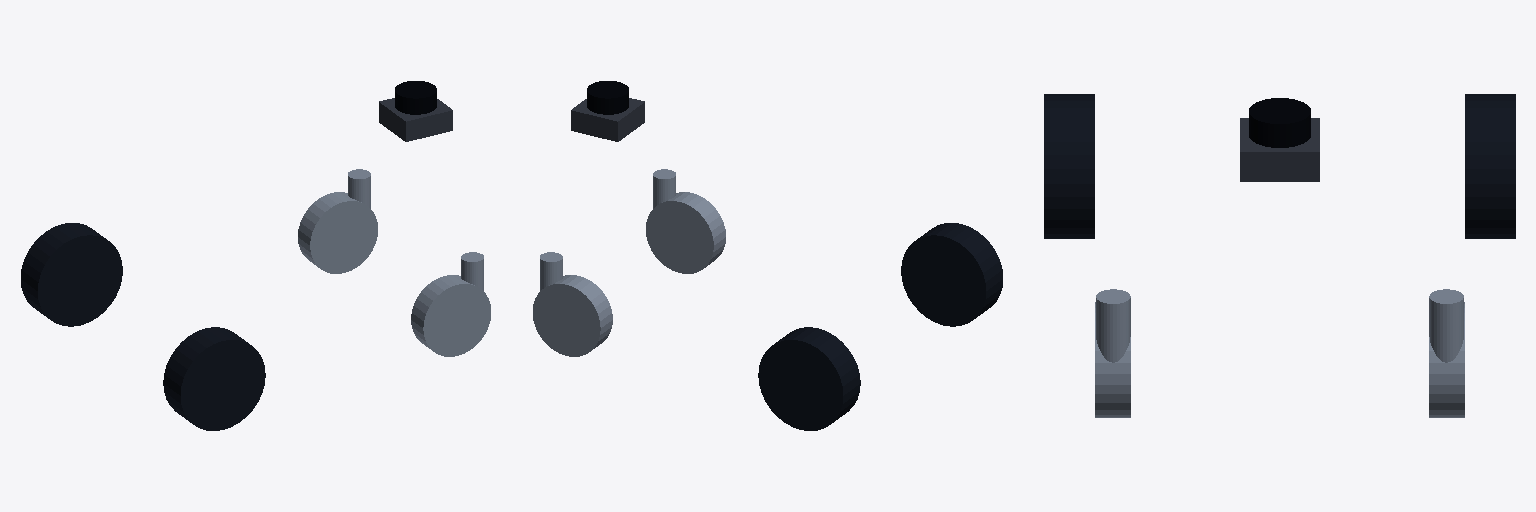
URDF robot description (fwr_chassis_preview):
<?xml version="1.0"?>
<!-- Overall envelope: 0.52 m long, 0.35 m wide, 0.20 m high. +X is front.
     Wheel sizes and mounting coordinates are illustrative, not measured CAD. -->
<robot name="fwr_chassis_preview">
  <material name="body_blue"><color rgba="0.12 0.35 0.68 0.72"/></material>
  <material name="wheel_dark"><color rgba="0.10 0.12 0.16 1"/></material>
  <material name="caster_gray"><color rgba="0.52 0.56 0.62 1"/></material>
  <material name="lidar_dark"><color rgba="0.04 0.05 0.07 1"/></material>
  <material name="lidar_base_gray"><color rgba="0.23 0.25 0.29 1"/></material>

  <link name="base_link">
    <visual>
      <origin xyz="0 0 0.12"/>
      <geometry><mesh filename="file:///home/manbaout/Company_Project/Four-wheel-robot/docs/hardware/preview/fwr_chassis_rounded.stl"/></geometry>
      <material name="body_blue"/>
    </visual>
    <collision>
      <origin xyz="0 0 0.12"/>
      <geometry><box size="0.52 0.35 0.16"/></geometry>
    </collision>
  </link>

  <!-- RPLIDAR C1 simplified visual: 55.6 x 55.6 x 41.3 mm per SLAMTEC drawing.
       Base position is illustrative; +X is front and the scan frame is chassis-fixed. -->
  <link name="laser_front">
    <visual>
      <origin xyz="0 0 -0.01825"/>
      <geometry><box size="0.0556 0.0556 0.0231"/></geometry>
      <material name="lidar_base_gray"/>
    </visual>
    <visual>
      <origin xyz="0 0 0.0024"/>
      <geometry><cylinder radius="0.0215" length="0.0182"/></geometry>
      <material name="lidar_dark"/>
    </visual>
    <collision>
      <origin xyz="0 0 -0.00915"/>
      <geometry><box size="0.0556 0.0556 0.0413"/></geometry>
    </collision>
    <inertial>
      <origin xyz="0 0 -0.00915"/>
      <mass value="0.11"/>
      <inertia ixx="0.0000439" ixy="0" ixz="0" iyy="0.0000439" iyz="0" izz="0.0000567"/>
    </inertial>
  </link>
  <joint name="laser_front_joint" type="fixed">
    <parent link="base_link"/><child link="laser_front"/>
    <origin xyz="0.19 0 0.2298" rpy="0 0 0"/>
  </joint>

  <link name="left_drive_wheel">
    <visual><origin rpy="1.57079632679 0 0"/><geometry><cylinder radius="0.05" length="0.035"/></geometry><material name="wheel_dark"/></visual>
  </link>
  <joint name="left_drive_wheel_preview_joint" type="fixed">
    <parent link="base_link"/><child link="left_drive_wheel"/>
    <origin xyz="-0.13 0.145 0.05"/>
  </joint>

  <link name="right_drive_wheel">
    <visual><origin rpy="1.57079632679 0 0"/><geometry><cylinder radius="0.05" length="0.035"/></geometry><material name="wheel_dark"/></visual>
  </link>
  <joint name="right_drive_wheel_preview_joint" type="fixed">
    <parent link="base_link"/><child link="right_drive_wheel"/>
    <origin xyz="-0.13 -0.145 0.05"/>
  </joint>

  <link name="front_left_caster_swivel">
    <visual><origin xyz="0 0 -0.015"/><geometry><cylinder radius="0.012" length="0.05"/></geometry><material name="caster_gray"/></visual>
  </link>
  <joint name="front_left_caster_steer_joint" type="continuous">
    <parent link="base_link"/><child link="front_left_caster_swivel"/>
    <origin xyz="0.19 0.115 0.09"/>
    <axis xyz="0 0 1"/>
  </joint>
  <link name="front_left_caster_wheel">
    <visual><origin rpy="1.57079632679 0 0"/><geometry><cylinder radius="0.04" length="0.025"/></geometry><material name="caster_gray"/></visual>
  </link>
  <joint name="front_left_caster_roll_joint" type="continuous">
    <parent link="front_left_caster_swivel"/><child link="front_left_caster_wheel"/>
    <origin xyz="-0.025 0 -0.05"/>
    <axis xyz="0 1 0"/>
  </joint>

  <link name="front_right_caster_swivel">
    <visual><origin xyz="0 0 -0.015"/><geometry><cylinder radius="0.012" length="0.05"/></geometry><material name="caster_gray"/></visual>
  </link>
  <joint name="front_right_caster_steer_joint" type="continuous">
    <parent link="base_link"/><child link="front_right_caster_swivel"/>
    <origin xyz="0.19 -0.115 0.09"/>
    <axis xyz="0 0 1"/>
  </joint>
  <link name="front_right_caster_wheel">
    <visual><origin rpy="1.57079632679 0 0"/><geometry><cylinder radius="0.04" length="0.025"/></geometry><material name="caster_gray"/></visual>
  </link>
  <joint name="front_right_caster_roll_joint" type="continuous">
    <parent link="front_right_caster_swivel"/><child link="front_right_caster_wheel"/>
    <origin xyz="-0.025 0 -0.05"/>
    <axis xyz="0 1 0"/>
  </joint>
</robot>

--- Render facts (derived) ---
The picture shows the robot from 3 angles, left to right: view 1: azimuth 30°, elevation 25°; view 2: azimuth 150°, elevation 25°; view 3: azimuth 270°, elevation 25°; orthographic projection.
Model fwr_chassis_preview with 8 links and 7 joints (4 continuous, 3 fixed), rooted at base_link, posed all joints at 0.
Links seen in each view (by area): view 1: left_drive_wheel, right_drive_wheel, front_left_caster_wheel, front_right_caster_wheel, laser_front, front_left_caster_swivel, front_right_caster_swivel; view 2: right_drive_wheel, left_drive_wheel, front_left_caster_wheel, front_right_caster_wheel, laser_front, front_right_caster_swivel, front_left_caster_swivel; view 3: left_drive_wheel, right_drive_wheel, laser_front, front_left_caster_wheel, front_right_caster_wheel, front_left_caster_swivel, front_right_caster_swivel.
Link boxes in pixels (x1,y1,x2,y2): left_drive_wheel: (21,223,122,326); right_drive_wheel: (163,327,265,430); front_left_caster_wheel: (298,192,377,273); front_right_caster_wheel: (411,275,490,356); laser_front: (379,81,452,141); front_left_caster_swivel: (348,169,370,208); front_right_caster_swivel: (461,252,483,290); right_drive_wheel: (901,223,1002,326); left_drive_wheel: (758,327,860,430); front_left_caster_wheel: (533,275,612,356); front_right_caster_wheel: (646,192,725,273); laser_front: (571,81,644,141); front_right_caster_swivel: (653,169,675,208); front_left_caster_swivel: (540,252,562,290); left_drive_wheel: (1465,94,1515,238); right_drive_wheel: (1044,94,1094,238); laser_front: (1240,98,1319,181); front_left_caster_wheel: (1429,302,1464,417); front_right_caster_wheel: (1095,302,1130,417); front_left_caster_swivel: (1429,289,1463,362); front_right_caster_swivel: (1096,289,1130,362).
Bounding box of the posed robot: 0.3978 × 0.325 × 0.2413 m (x, y, z).
Geometry: only primitive shapes (box / cylinder / sphere) drawn; not drawn: 1 mesh visual (reference in a form the renderer does not follow).
